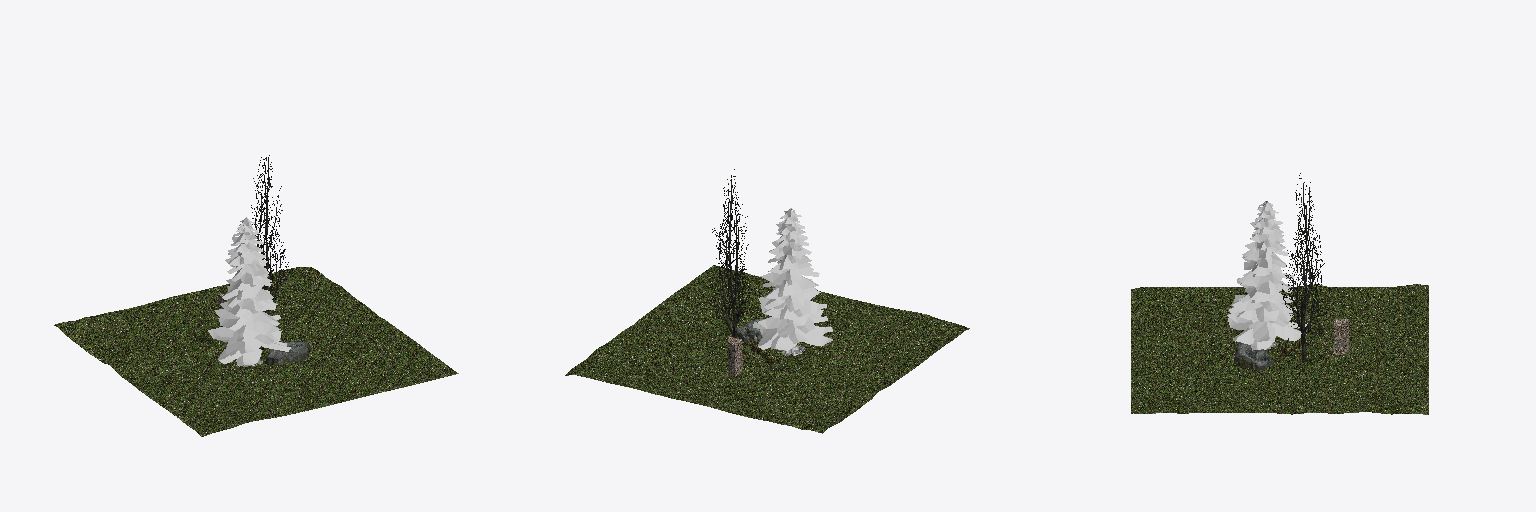
The picture shows the model from 3 angles: view 1: azimuth 30°, elevation 25°; view 2: azimuth 150°, elevation 25°; view 3: azimuth 270°, elevation 25°; orthographic projection.
Visible parts, largest first — view 1: Tree_pine_Large, 101, 98, 108, 113, 91, 107, 119, 86, 2, tree_poplar_01, forestrock_cluster02; view 2: Tree_pine_Large, 107, 119, 108, 113, 86, 91, 98, 101, tree_poplar_01, 2; view 3: Tree_pine_Large, 91, 107, 119, 98, 101, 113, 86, 2, tree_poplar_01, 108, forestrock_cluster02.
Boxes of the visible parts, <box> form: Tree_pine_Large: <box>208,217,290,366</box>; 101: <box>238,359,372,414</box>; 98: <box>324,337,458,394</box>; 108: <box>104,342,237,399</box>; 113: <box>54,306,186,362</box>; 91: <box>278,301,408,358</box>; 107: <box>153,380,286,436</box>; 119: <box>226,267,358,320</box>; 86: <box>140,285,227,341</box>; 2: <box>189,324,322,378</box>; tree_poplar_01: <box>251,155,288,314</box>; forestrock_cluster02: <box>265,342,309,364</box>; Tree_pine_Large: <box>753,208,832,355</box>; 107: <box>836,307,969,362</box>; 119: <box>565,338,699,392</box>; 108: <box>786,344,920,398</box>; 113: <box>737,379,871,433</box>; 86: <box>651,359,785,414</box>; 91: <box>615,301,748,358</box>; 98: <box>665,265,775,321</box>; 101: <box>751,290,884,342</box>; tree_poplar_01: <box>709,169,749,337</box>; 2: <box>701,334,835,377</box>; Tree_pine_Large: <box>1227,201,1306,350</box>; 91: <box>1230,370,1329,414</box>; 107: <box>1131,287,1229,329</box>; 119: <box>1330,371,1428,414</box>; 98: <box>1131,370,1229,413</box>; 101: <box>1131,330,1229,371</box>; 113: <box>1330,284,1428,329</box>; 86: <box>1330,329,1428,371</box>; 2: <box>1230,329,1329,371</box>; tree_poplar_01: <box>1281,173,1330,361</box>; 108: <box>1230,284,1329,329</box>; forestrock_cluster02: <box>1234,343,1273,370</box>.
Bounding box in the file's own units: 1536 × 1136 × 1536.
8 materials, 7 textured.